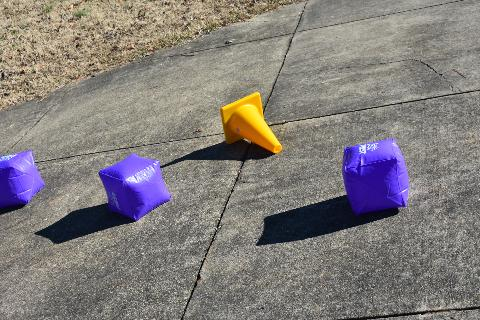cone: (220, 91, 283, 155)
cube: (342, 139, 410, 215), (98, 153, 172, 221), (0, 152, 44, 208)
